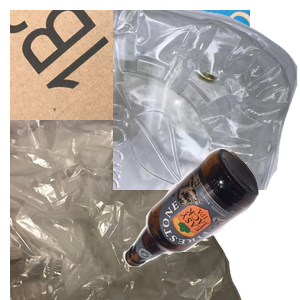cardboard: (10, 10, 250, 190)
glass: (120, 145, 300, 300)
plastic: (113, 10, 300, 190)
trash: (10, 120, 244, 300)
